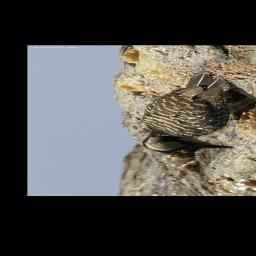Woodpecker: (141, 70, 256, 155)
